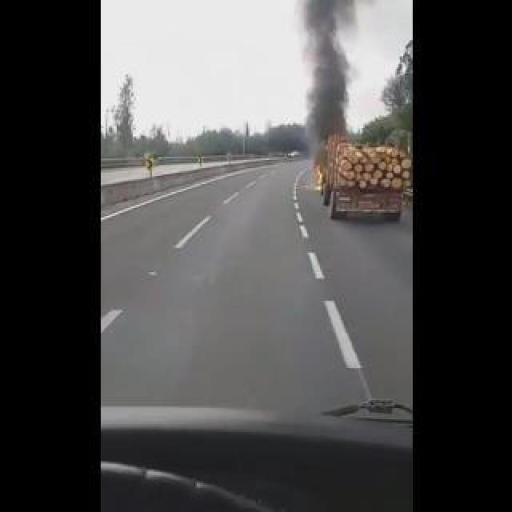smoke: (294, 2, 356, 146), (312, 166, 325, 189)
